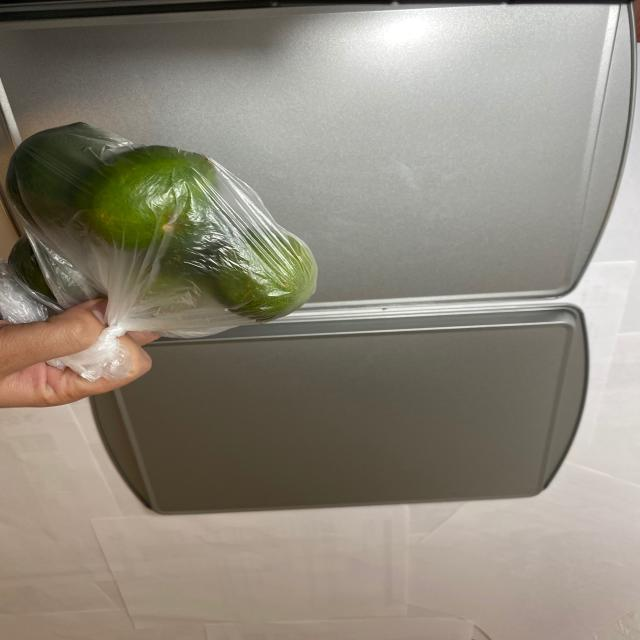lemon: (8, 119, 317, 336)
